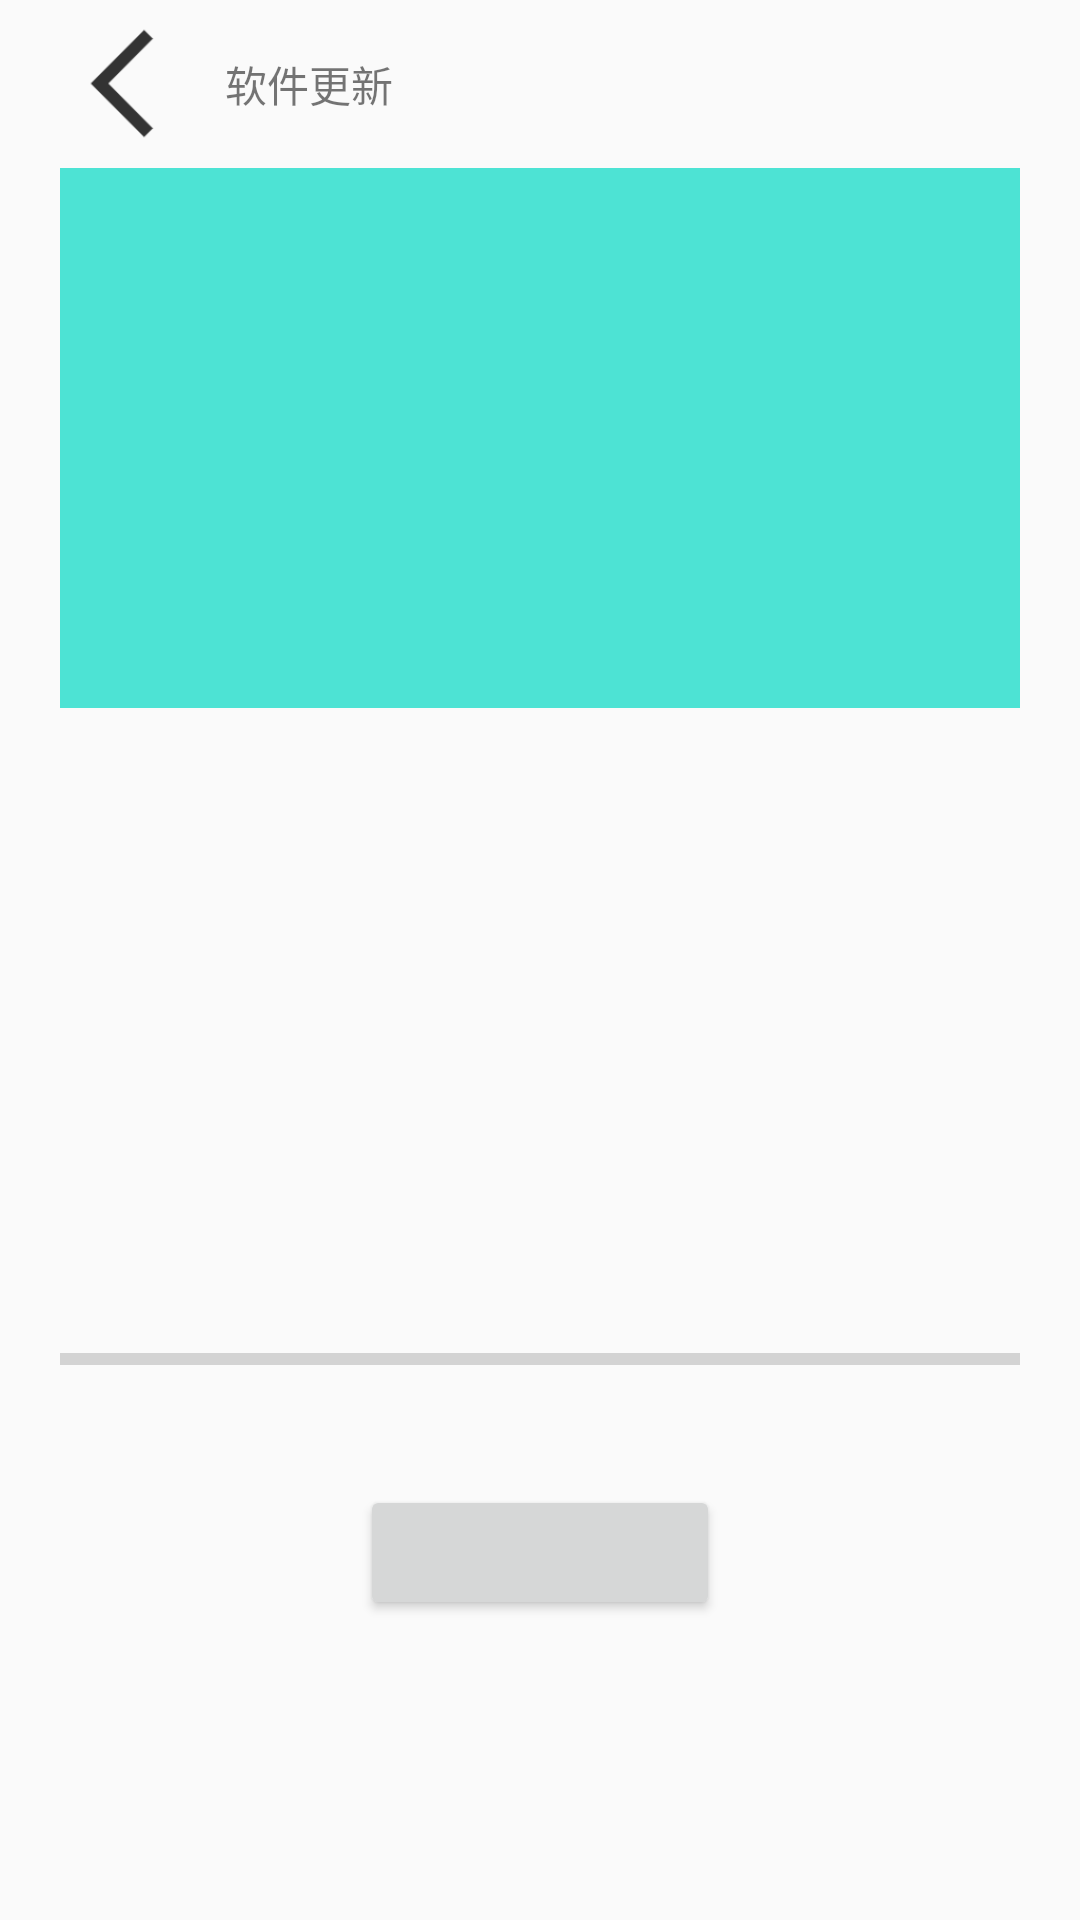

Named icons in this screenshot (1080*1920) and their centers, point (x, y):
back: point (121, 83)
